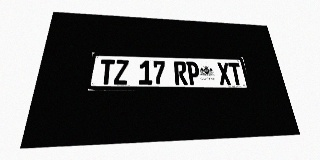1: (139, 60, 152, 85)
7: (152, 61, 166, 85)
P: (186, 61, 201, 85)
R: (174, 61, 188, 85)
T: (99, 59, 115, 85), (228, 63, 243, 85)
X: (217, 62, 232, 85)
Z: (114, 60, 129, 85)
